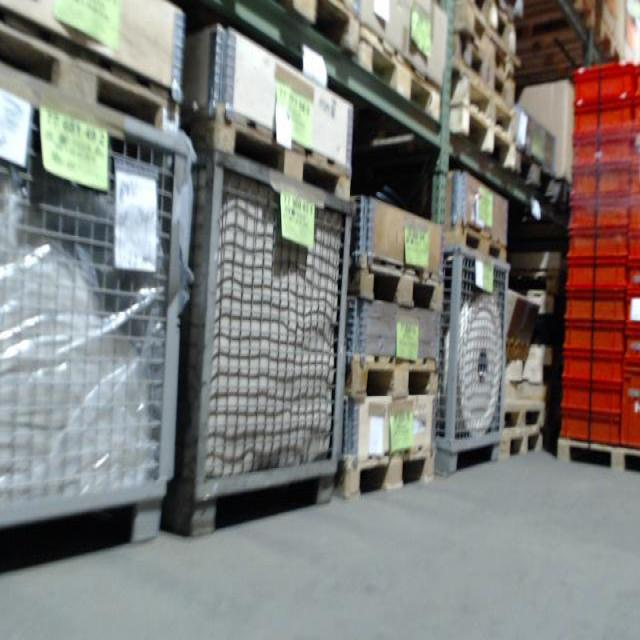pallet: (2, 1, 188, 137), (185, 104, 353, 207), (352, 18, 438, 130), (342, 250, 446, 315), (242, 1, 356, 56), (331, 444, 437, 498), (338, 344, 439, 400), (521, 2, 598, 63), (508, 143, 567, 218), (452, 105, 517, 173), (551, 434, 640, 483), (455, 74, 516, 136), (457, 43, 516, 104), (460, 15, 518, 76), (441, 222, 507, 267), (490, 424, 551, 461), (488, 396, 553, 428), (598, 23, 636, 74)
small_load_carrier: (573, 62, 634, 101), (573, 101, 634, 138), (566, 167, 634, 198), (567, 264, 628, 298), (563, 383, 624, 416), (567, 199, 628, 231), (573, 138, 633, 167), (568, 232, 628, 261), (558, 416, 624, 442), (563, 323, 622, 352), (563, 353, 622, 382), (562, 298, 628, 323), (626, 362, 638, 449), (624, 330, 638, 366), (628, 200, 639, 237), (626, 234, 639, 264), (630, 293, 639, 330), (630, 265, 639, 294)
stillage: (1, 73, 206, 573), (158, 140, 365, 551), (429, 242, 518, 479)
